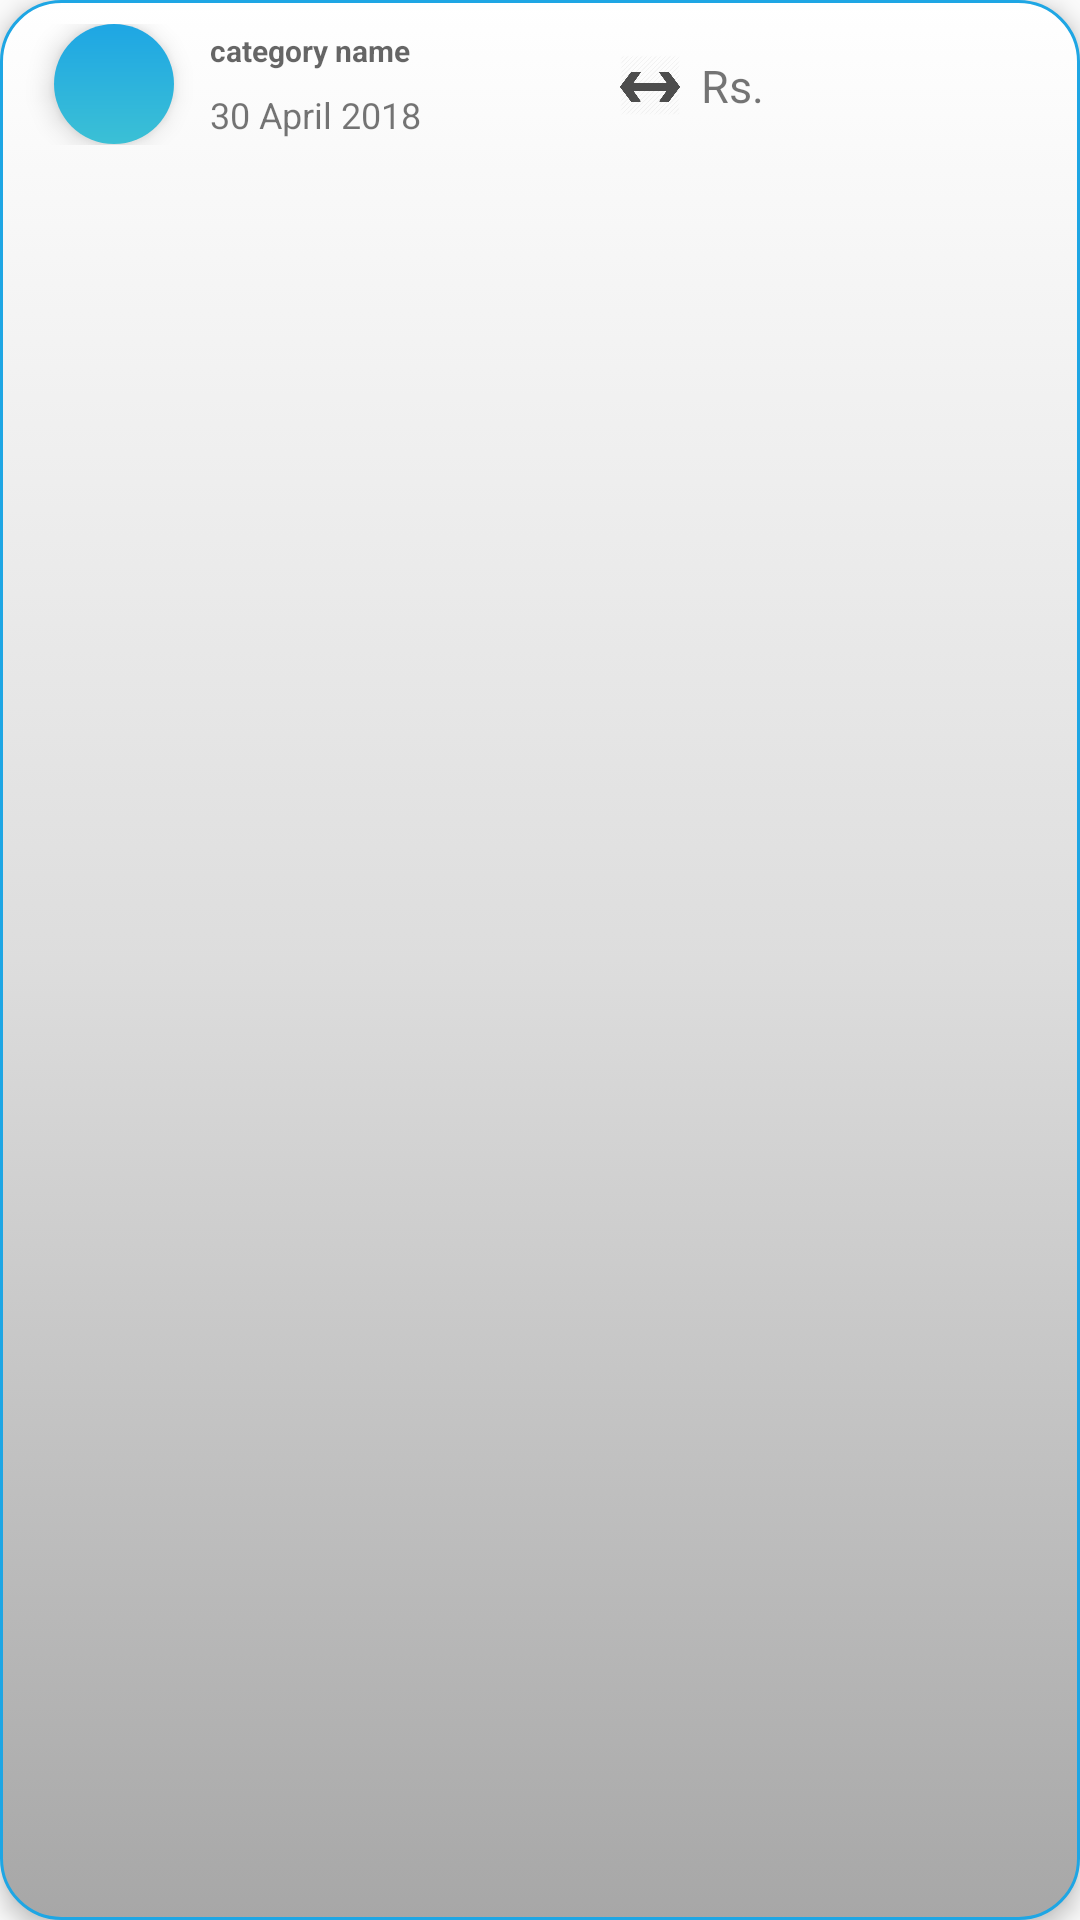

Where to tap for icons on this 1080*1920 app screen, as point (x, y):
transfer: point (650, 87)
